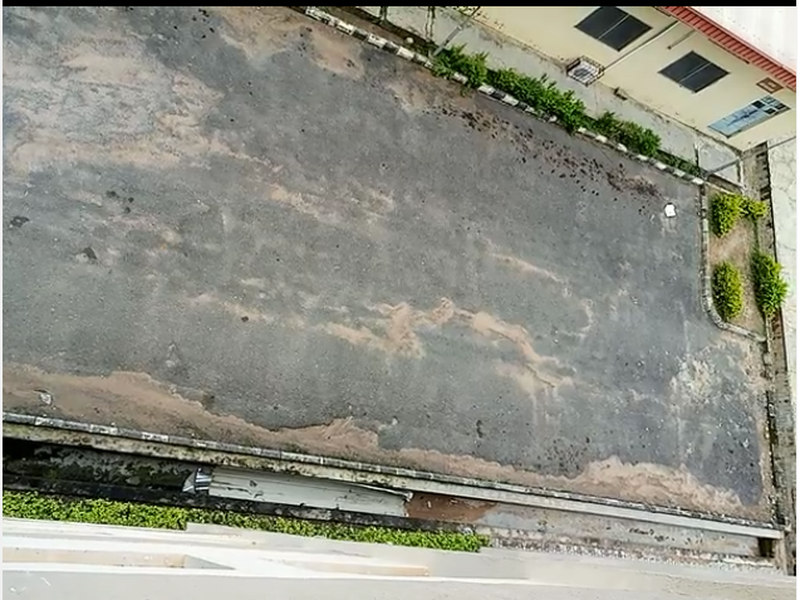five: (627, 132, 730, 325)
four: (503, 69, 589, 293)
three: (328, 31, 454, 270)
